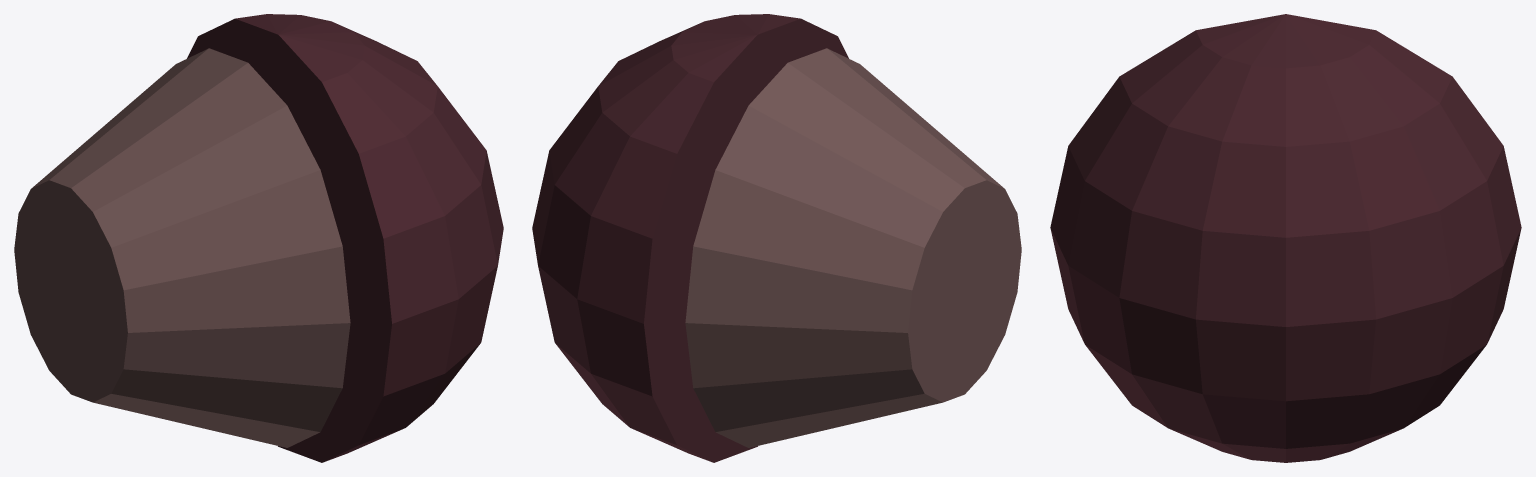
File: MassiveBullet_Bullet_0.dae
3 views of the same model, side by side, from view 1: azimuth 30°, elevation 25°; view 2: azimuth 150°, elevation 25°; view 3: azimuth 270°, elevation 25° (orthographic). The views are drawn at different scales.
Visible parts, largest first — view 1: Cylinder_001, Sphere; view 2: Cylinder_001, Sphere; view 3: Sphere.
Boxes of the visible parts, x1,y1,x2,y2 form: Cylinder_001: (14, 48, 350, 447); Sphere: (187, 14, 503, 462); Cylinder_001: (685, 48, 1021, 447); Sphere: (532, 14, 848, 462); Sphere: (1050, 14, 1521, 462).
Size of the model in its own units: 2.05 by 2 by 2.
